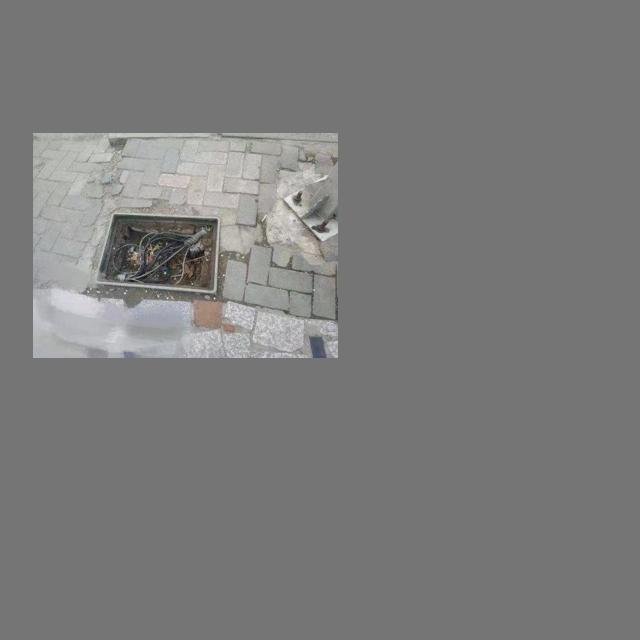lose: (104, 209, 220, 296)
